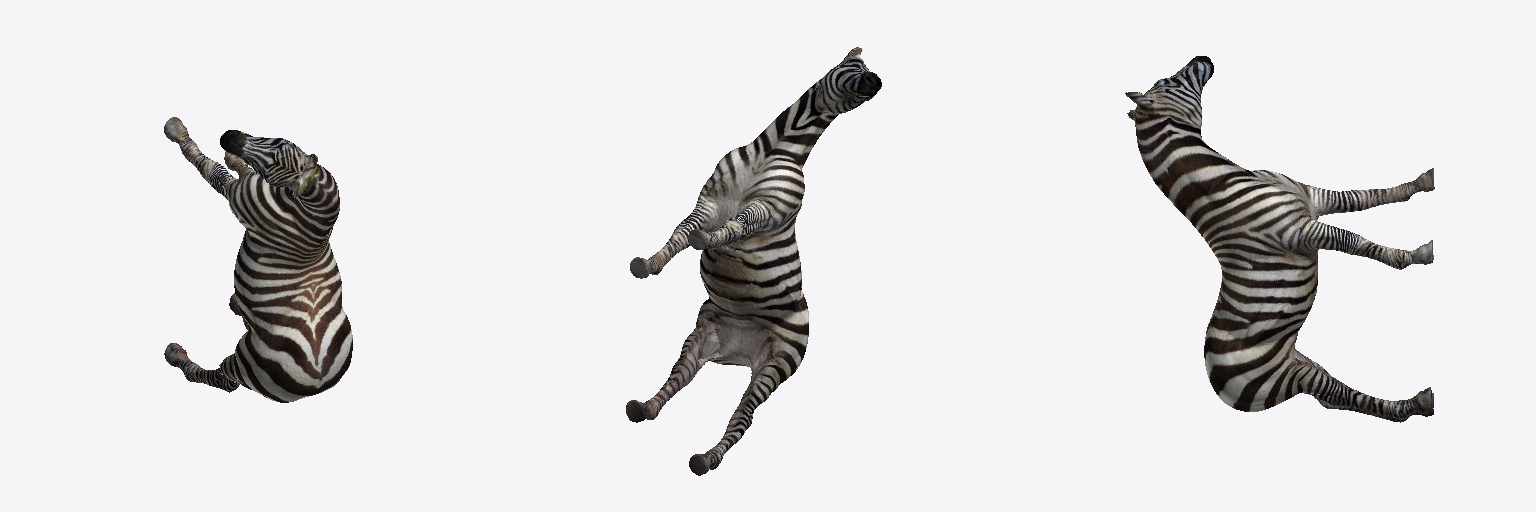
3 views of the same model, side by side, from view 1: azimuth 30°, elevation 25°; view 2: azimuth 150°, elevation 25°; view 3: azimuth 270°, elevation 25° (orthographic).
Visible parts, largest first — view 1: object0, object4; view 2: object0, object4, object5, object13, object2, object3; view 3: object4, object1, object0, object3.
Boxes of the visible parts, x1,y1,x2,y2 form: object0: [164, 121, 337, 402]; object4: [221, 130, 352, 393]; object0: [696, 80, 881, 475]; object4: [626, 48, 880, 419]; object5: [634, 311, 741, 421]; object13: [712, 241, 753, 328]; object2: [640, 196, 734, 278]; object3: [689, 318, 774, 468]; object4: [1135, 56, 1432, 418]; object1: [1308, 169, 1433, 220]; object0: [1140, 153, 1434, 409]; object3: [1293, 349, 1432, 422].
Bounding box in the file's own units: 229 × 500 × 417.
Materials: 1 (1 with a texture image).